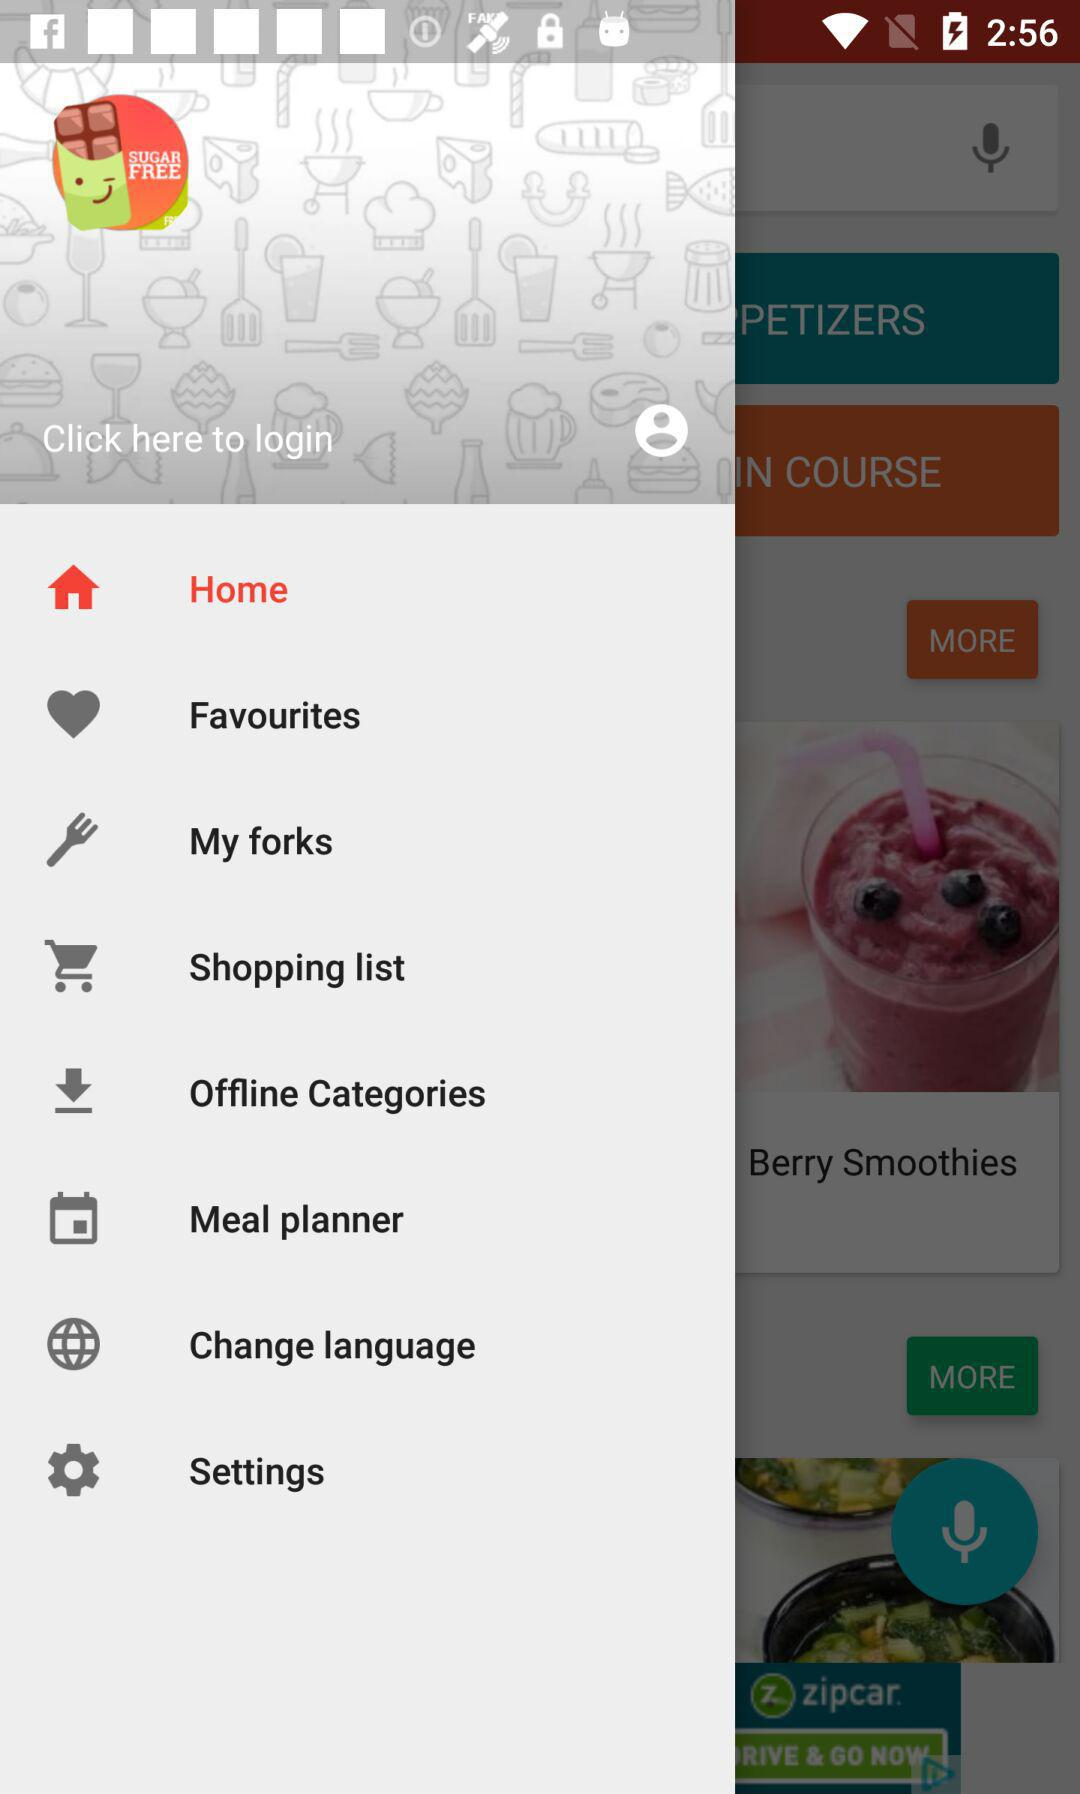Drawer: (1, 64, 735, 1794)
Icon: (634, 402, 689, 460), (44, 939, 99, 994), (47, 1442, 101, 1498), (45, 689, 102, 741), (47, 1190, 100, 1246), (47, 563, 102, 613), (54, 1067, 95, 1115)
Image: (1, 64, 734, 504), (51, 94, 191, 235), (46, 1317, 102, 1372), (46, 812, 101, 869)
Text: (190, 1076, 487, 1116), (44, 423, 334, 461), (190, 1329, 478, 1367), (190, 951, 407, 991), (190, 1203, 405, 1242), (190, 824, 334, 864), (191, 701, 361, 732), (190, 1456, 325, 1494), (191, 575, 290, 606)
UpperTaskBar: (1, 1, 1080, 64)
